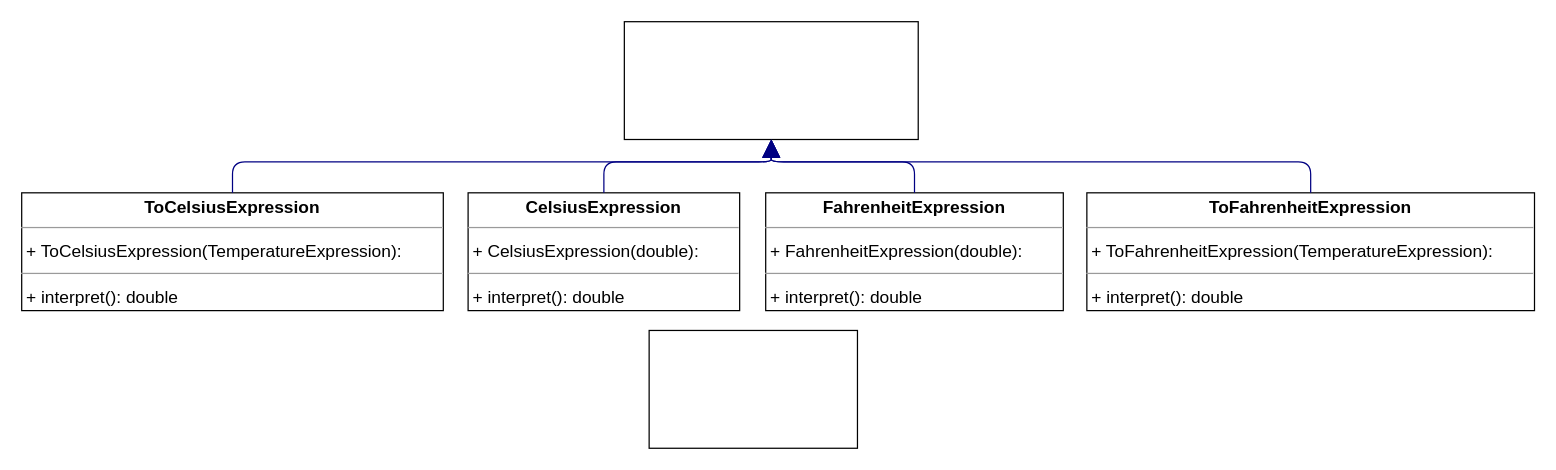
Image size: 1556x470. Some labels were removed from this diagram. The centre of each missing label's shape, as x and y in pixels:
Main + Main(): + main(String[]): void: the point at 752,388
TemperatureExpression + TemperatureExpression(): + interpret(): double: the point at 770,80
